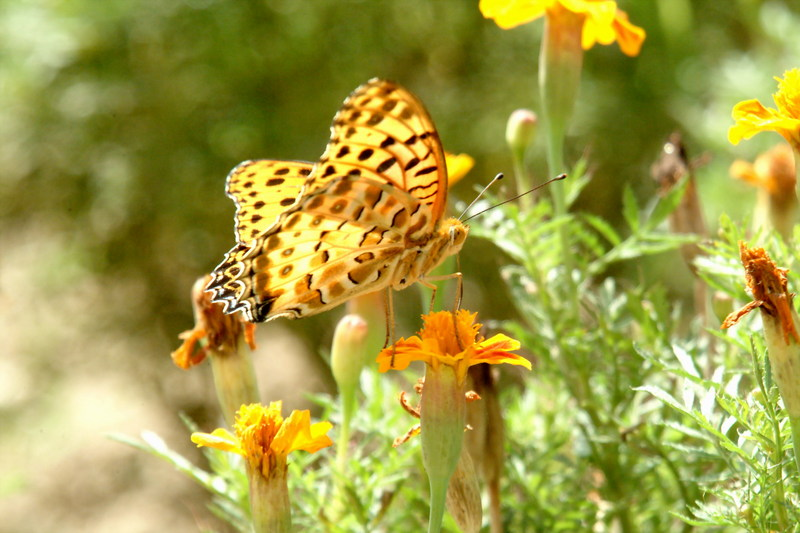Argyreus hyperbius: (201, 66, 579, 360)
butterfly: (201, 62, 579, 356)
